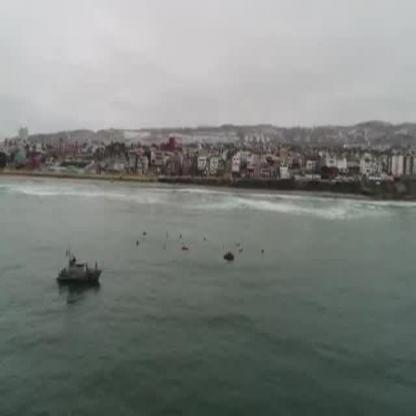Boat: (56, 246, 102, 293)
